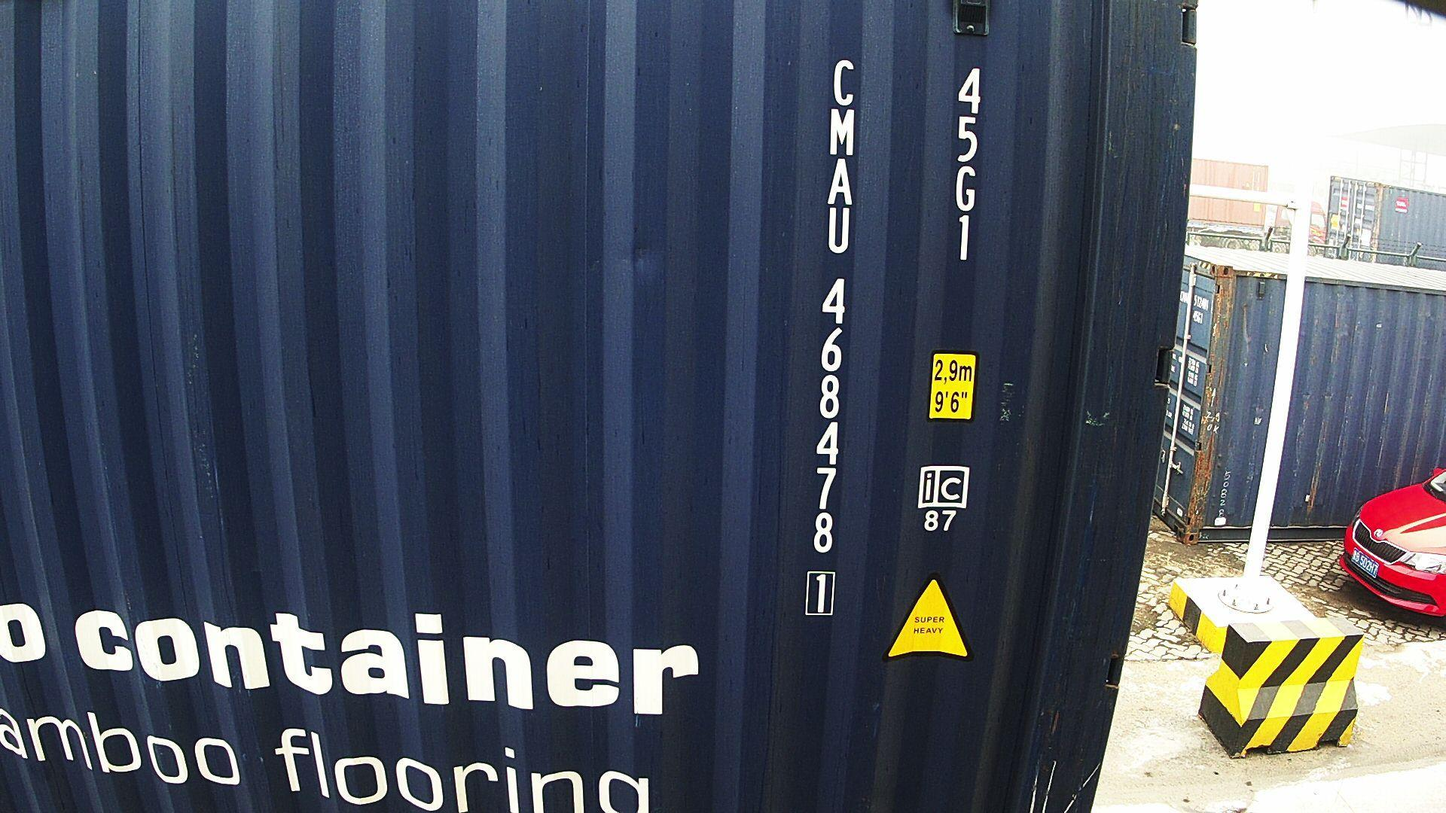container-numbers: (800, 54, 865, 623), (944, 63, 990, 271)
